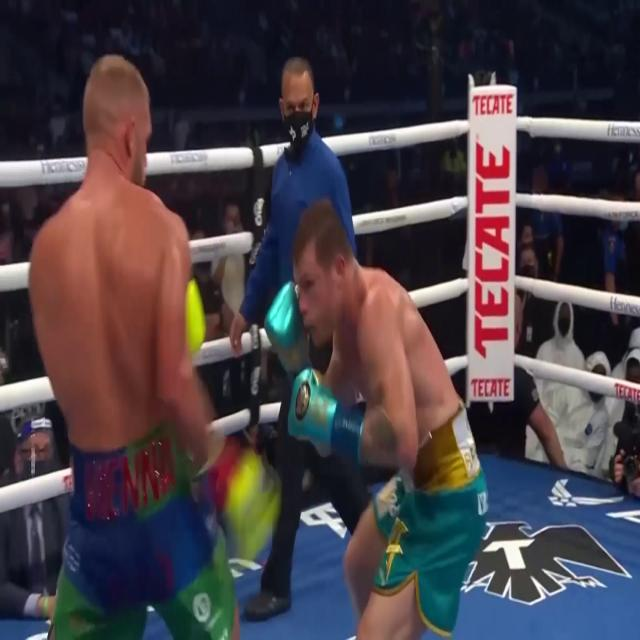boxer_1: (29, 54, 168, 451)
boxer_2: (293, 200, 461, 452)
gloves_1: (209, 437, 280, 560), (186, 279, 205, 353)
gloves_2: (265, 281, 364, 462)
